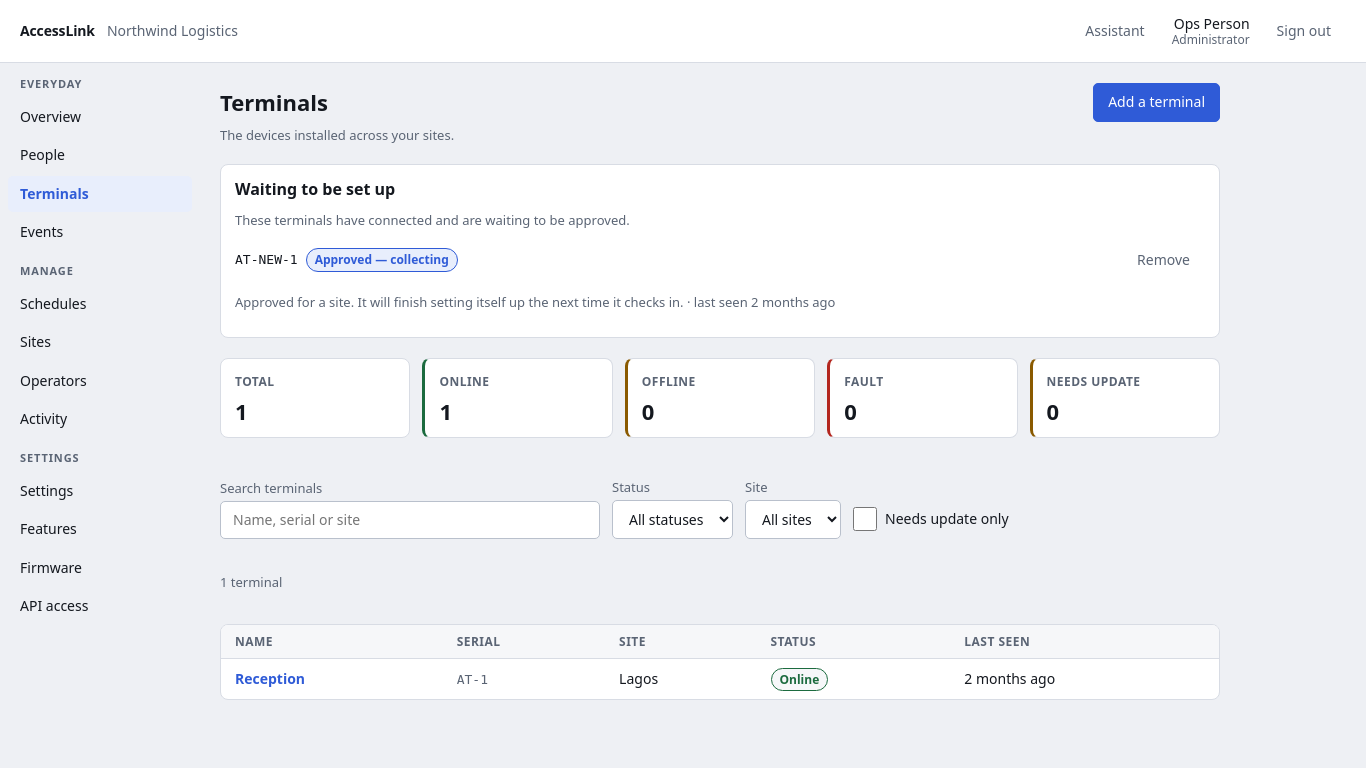
Scenario: the terminal set-up cards › shows the undo wording when the unit was already approved
Expected: the text "AT-NEW-1" is shown, [235,251,298,270]
Click the button "Assistant" at (1115, 31), box [1070,12,1160,50]
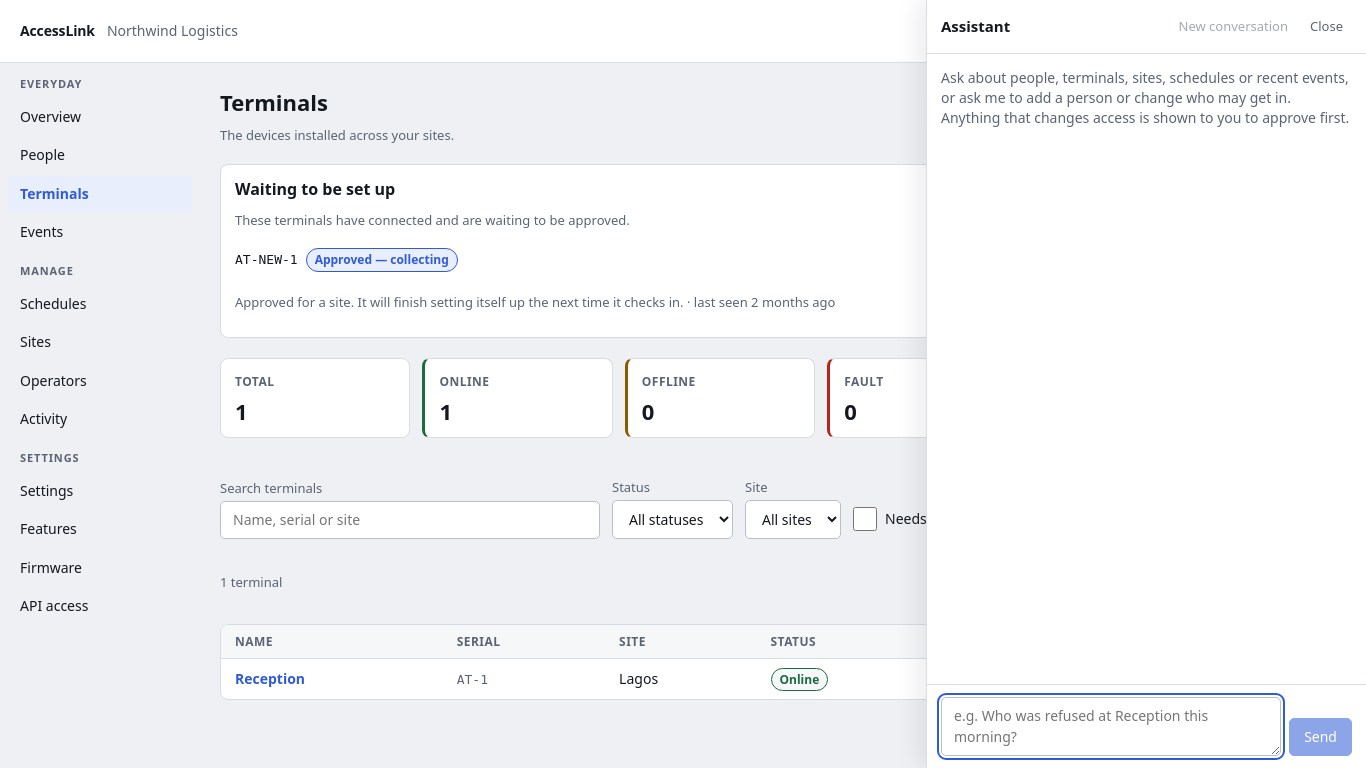
Type "undo that approval" into the text box named "Message the assistant" at (1111, 727), box [941,697,1281,756]
Then press Enter
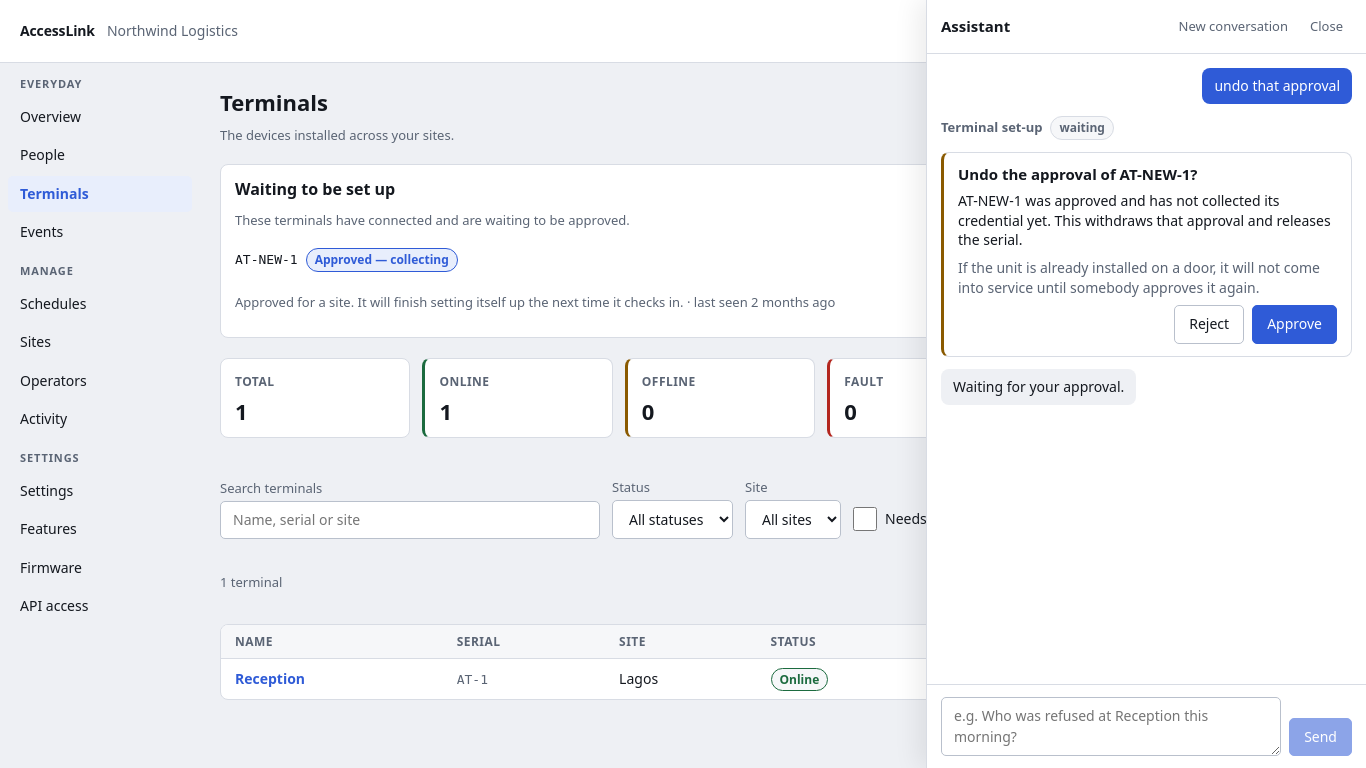
Expected: the text "releases the serial" is shown, [958,191,1331,250]
Expected: the text "will not come into service" is shown, [958,258,1320,297]
Click the button "Approve" at (1295, 324), box [1252,305,1337,344]
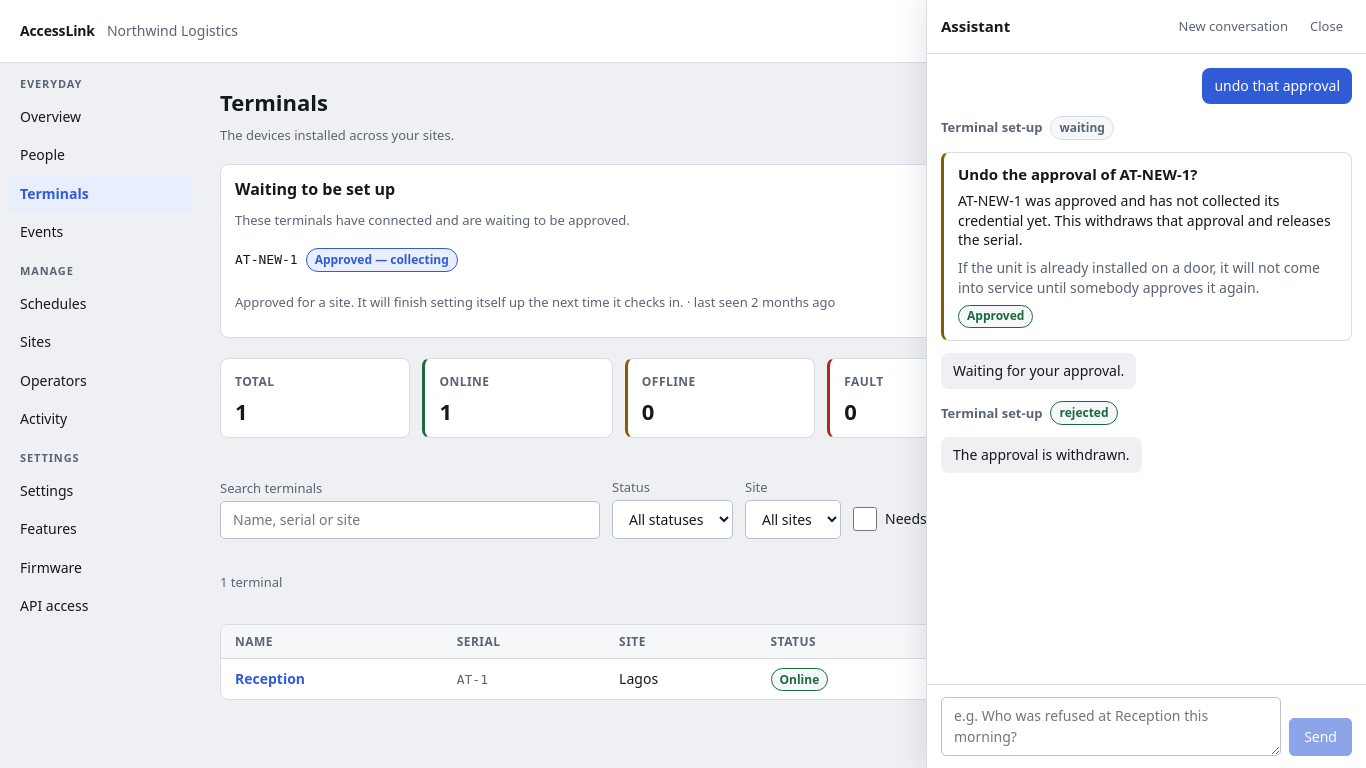
Expected: the text "The approval is withdrawn." is shown, [941,437,1142,473]
